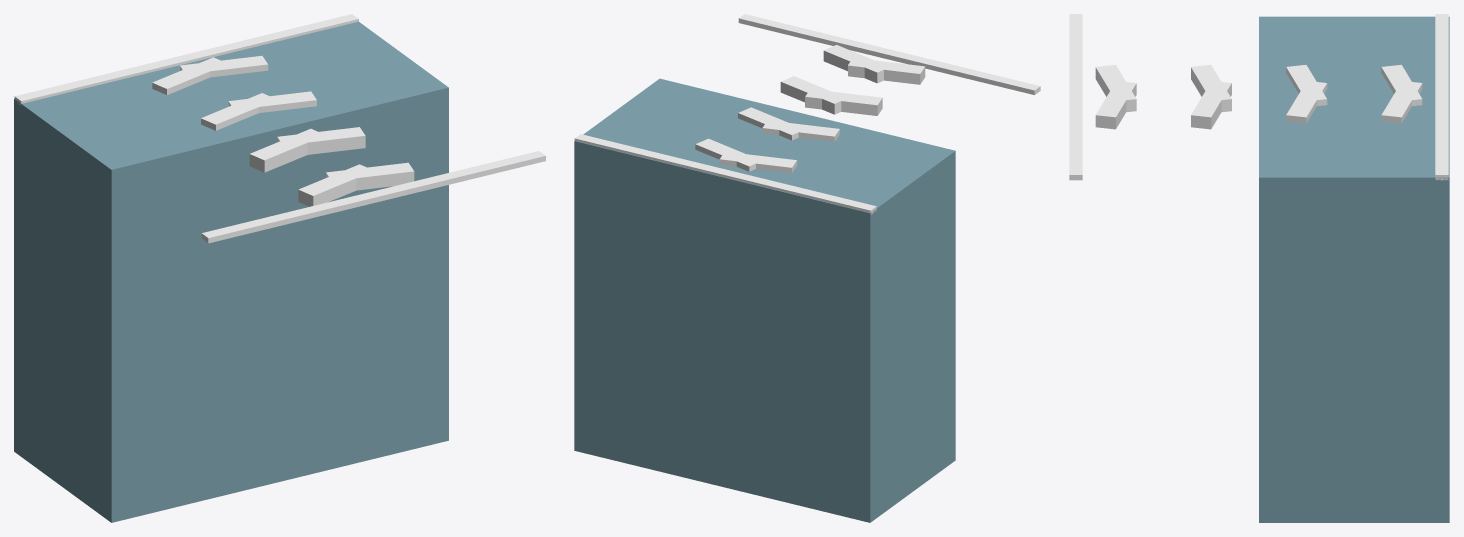
File: ThinConveyor_VerticalSlab.glb
3 renders of one model, left to right at view 1: azimuth 30°, elevation 25°; view 2: azimuth 150°, elevation 25°; view 3: azimuth 270°, elevation 25°, orthographic. The views are drawn at different scales.
Visible parts, largest first — view 1: ThinConveyor_VerticalSlab_body, rail_-0.008, rail_0.008, chev_1_1.008, chev_0_1.008, chev_0_-1.008, chev_1_-1.008, chev_3_-1.008, chev_2_1.008, chev_3_1.008, chev_2_-1.008; view 2: ThinConveyor_VerticalSlab_body, rail_-0.008, rail_0.008, chev_1_1.008, chev_0_1.008, chev_0_-1.008, chev_3_1.008, chev_2_1.008, chev_1_-1.008, chev_3_-1.008, chev_2_-1.008; view 3: ThinConveyor_VerticalSlab_body, rail_-0.008, rail_0.008, chev_0_-1.008, chev_1_-1.008, chev_0_1.008, chev_1_1.008, chev_2_-1.008, chev_3_-1.008, chev_3_1.008, chev_2_1.008.
Part boxes in pixels (box(x1,y1,x2,y2)): ThinConveyor_VerticalSlab_body: box(14, 21, 448, 522); rail_-0.008: box(201, 151, 545, 243); rail_0.008: box(14, 14, 358, 105); chev_1_1.008: box(249, 128, 325, 172); chev_0_1.008: box(298, 164, 373, 206); chev_0_-1.008: box(326, 162, 414, 190); chev_1_-1.008: box(277, 127, 365, 154); chev_3_-1.008: box(180, 55, 268, 77); chev_2_1.008: box(201, 93, 276, 130); chev_3_1.008: box(152, 57, 226, 94); chev_2_-1.008: box(228, 91, 316, 112); ThinConveyor_VerticalSlab_body: box(574, 78, 955, 522); rail_-0.008: box(738, 14, 1040, 94); rail_0.008: box(574, 134, 876, 214); chev_1_1.008: box(805, 89, 882, 115); chev_0_1.008: box(848, 58, 925, 84); chev_0_-1.008: box(823, 45, 883, 83); chev_3_1.008: box(719, 152, 797, 173); chev_2_1.008: box(762, 121, 839, 141); chev_1_-1.008: box(780, 76, 846, 114); chev_3_-1.008: box(695, 138, 760, 171); chev_2_-1.008: box(738, 107, 804, 140); ThinConveyor_VerticalSlab_body: box(1259, 16, 1449, 522); rail_-0.008: box(1069, 14, 1082, 180); rail_0.008: box(1435, 14, 1448, 180); chev_0_-1.008: box(1095, 81, 1136, 129); chev_1_-1.008: box(1191, 81, 1231, 129); chev_0_1.008: box(1095, 64, 1136, 112); chev_1_1.008: box(1191, 64, 1231, 112); chev_2_-1.008: box(1286, 81, 1327, 123); chev_3_-1.008: box(1381, 81, 1422, 123); chev_3_1.008: box(1381, 64, 1422, 106); chev_2_1.008: box(1286, 65, 1327, 106).
Size of the model in its own units: 1 by 1.02 by 0.9975.
